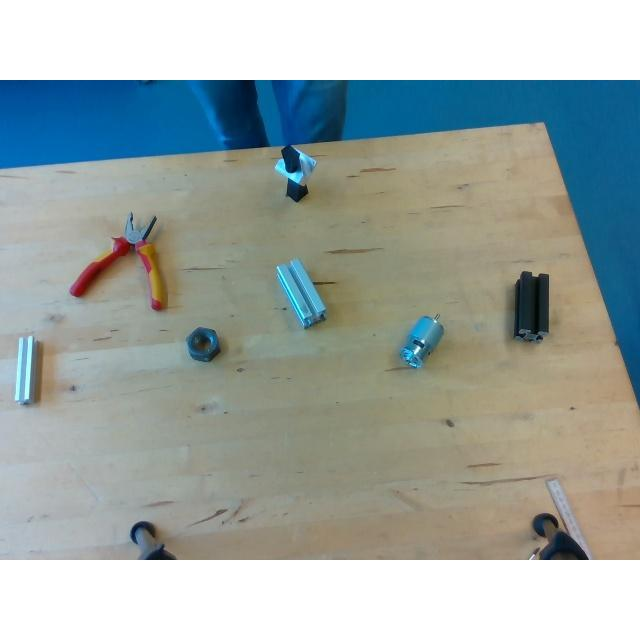F20_20_G: (16, 335, 38, 407)
M30: (186, 328, 218, 360)
Motor2: (400, 314, 442, 366)
S40_40_B: (514, 272, 550, 341)
S40_40_G: (276, 258, 326, 326)
